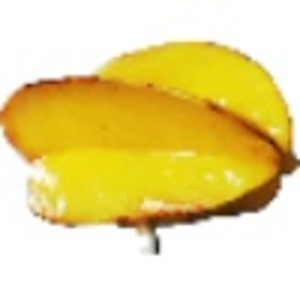carambola: (1, 38, 300, 252)
